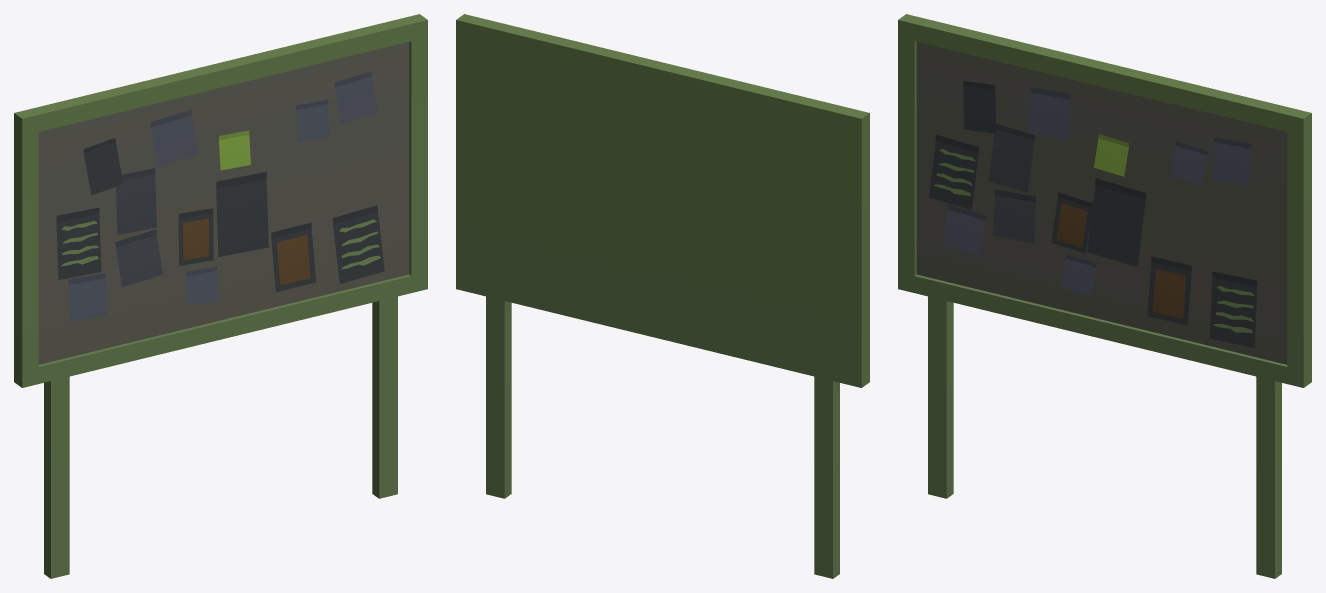
3 views of the same model, side by side, from view 1: azimuth 30°, elevation 25°; view 2: azimuth 150°, elevation 25°; view 3: azimuth 330°, elevation 25° (orthographic).
Visible parts, largest first — view 1: Ad_02; view 2: Ad_02; view 3: Ad_02.
Boxes of the visible parts, bbox=[...] form: Ad_02: bbox=[14, 14, 427, 578]; Ad_02: bbox=[456, 14, 869, 578]; Ad_02: bbox=[898, 14, 1311, 578].
Bounding box in the file's own units: 1.63 × 1.8 × 0.0815.
